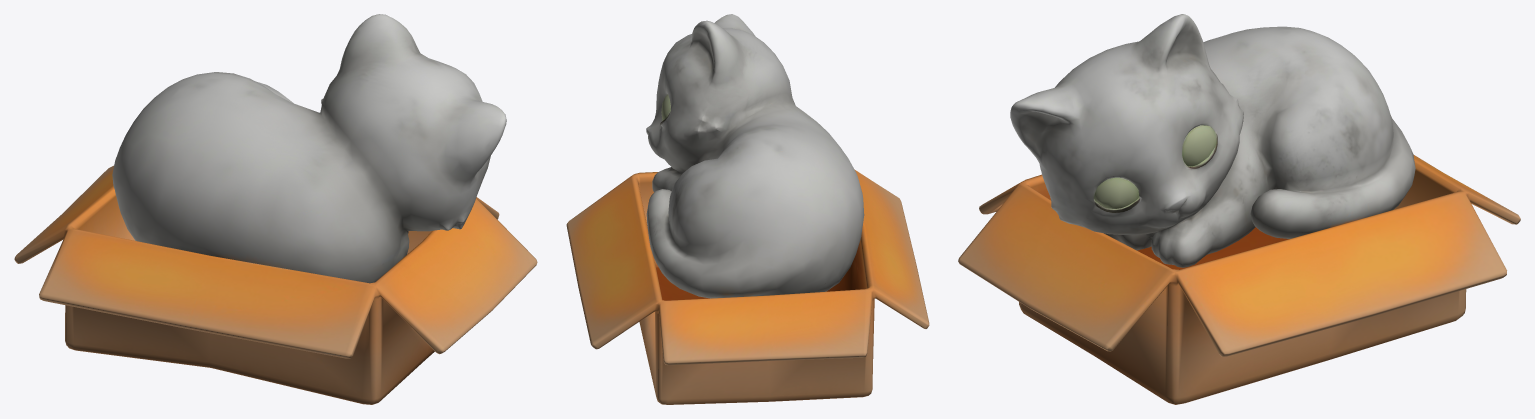
The model's file is figurine-warm-box.glb.
3 renders of one model, left to right at view 1: azimuth 30°, elevation 25°; view 2: azimuth 150°, elevation 25°; view 3: azimuth 270°, elevation 25°, orthographic. The views are drawn at different scales.
Visible parts, largest first — view 1: tripo_node_6c1e5132-423e-4310-b85c-906b07669ca1; view 2: tripo_node_6c1e5132-423e-4310-b85c-906b07669ca1; view 3: tripo_node_6c1e5132-423e-4310-b85c-906b07669ca1.
Boxes of the visible parts, <box> form: tripo_node_6c1e5132-423e-4310-b85c-906b07669ca1: <box>14,14,537,404</box>; tripo_node_6c1e5132-423e-4310-b85c-906b07669ca1: <box>566,14,929,404</box>; tripo_node_6c1e5132-423e-4310-b85c-906b07669ca1: <box>958,14,1520,404</box>.
Bounding box in the file's own units: 1.02 × 0.7368 × 1.07.
Materials: 1 (1 with a texture image).
